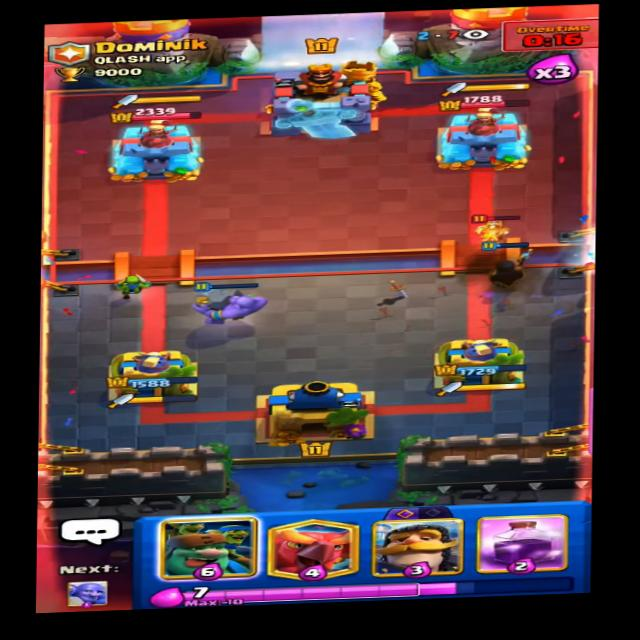Wizard: (466, 211, 534, 251)
